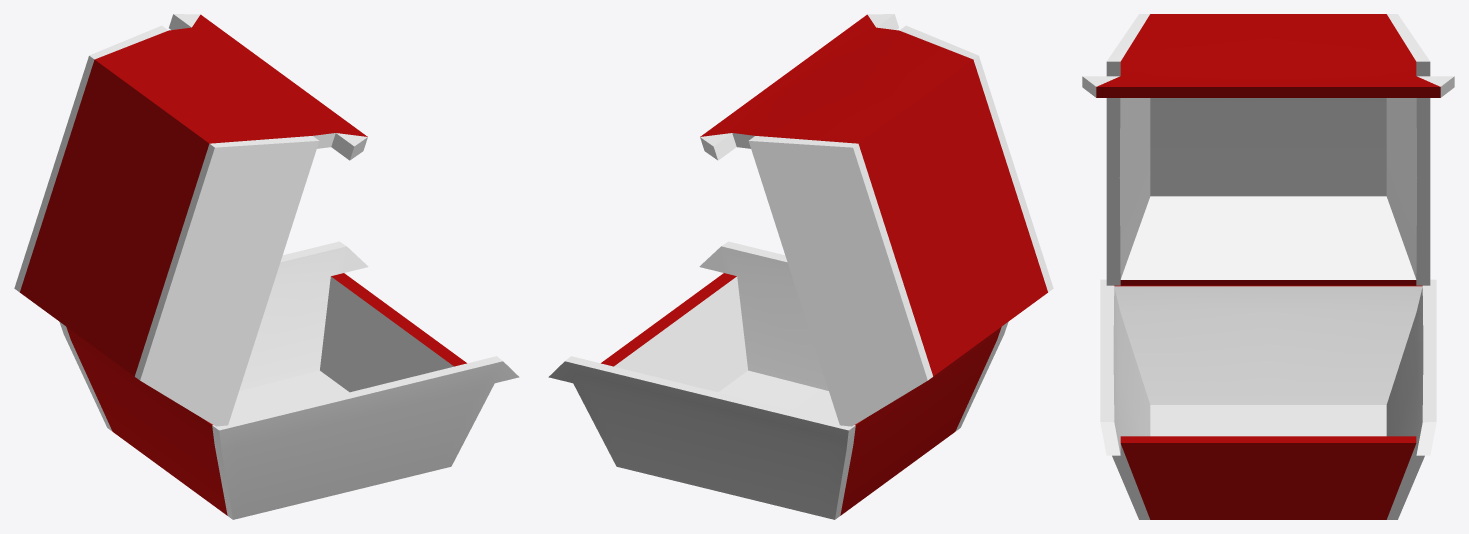
File: Packaging_05.glb
The picture shows the model from 3 angles, left to right: view 1: azimuth 30°, elevation 25°; view 2: azimuth 150°, elevation 25°; view 3: azimuth 270°, elevation 25°; orthographic projection. The views are drawn at different scales.
Parts seen in each view (by area): view 1: Mesh_Packaging_05; view 2: Mesh_Packaging_05; view 3: Mesh_Packaging_05.
Part boxes in pixels (x1=…): Mesh_Packaging_05: x1=14, y1=14, x2=519, y2=519; Mesh_Packaging_05: x1=548, y1=14, x2=1053, y2=519; Mesh_Packaging_05: x1=1082, y1=14, x2=1454, y2=519.
Bounding box in the file's own units: 0.1332 × 0.1319 × 0.1149.
Materials: 1 (1 with a texture image).
